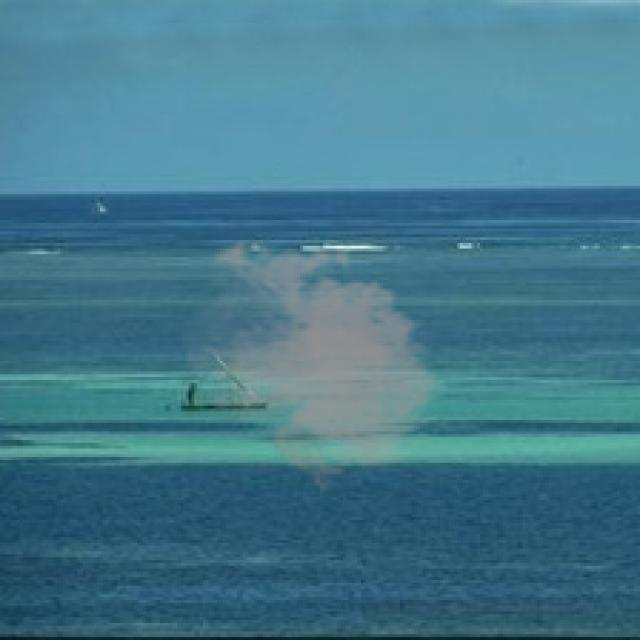Smoke: (177, 235, 449, 494)
